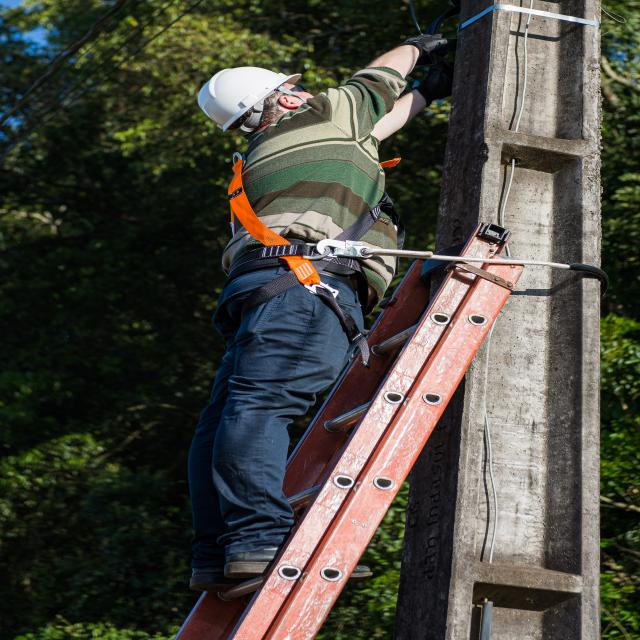capacete: (194, 66, 300, 132)
luva: (393, 29, 453, 56)
